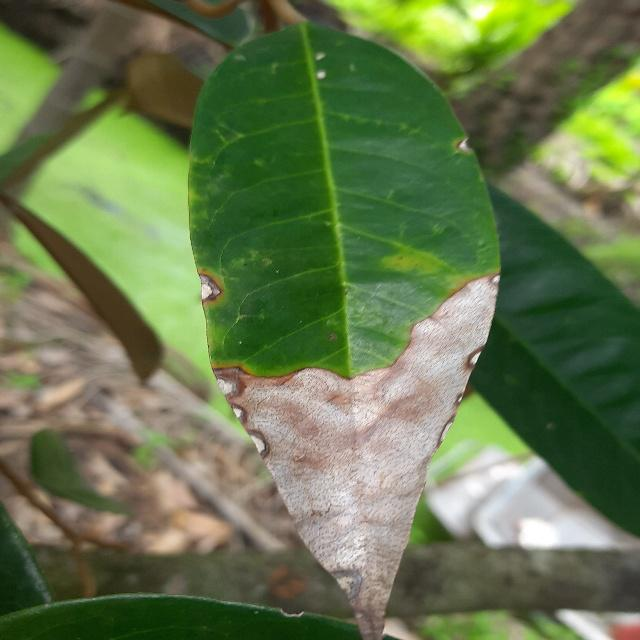Leaf Blight: (177, 19, 511, 639)
